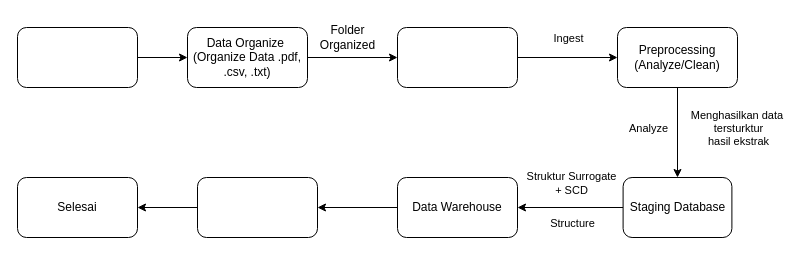
This 803x255 diagram has some shape labels left out. Here are the shapes that lost their labels. From the top down, the centre of each, then its label:
pixel 77 57: Start
pixel 457 57: Sumber Data (.pdf, .csv, .txt)
pixel 257 207: Dashboard Visualisasi
